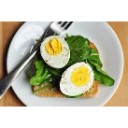begg: (64, 63, 94, 95), (43, 38, 62, 65)
